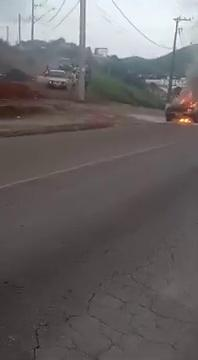Fire: (176, 105, 198, 127)
Smoke: (167, 19, 198, 102)
